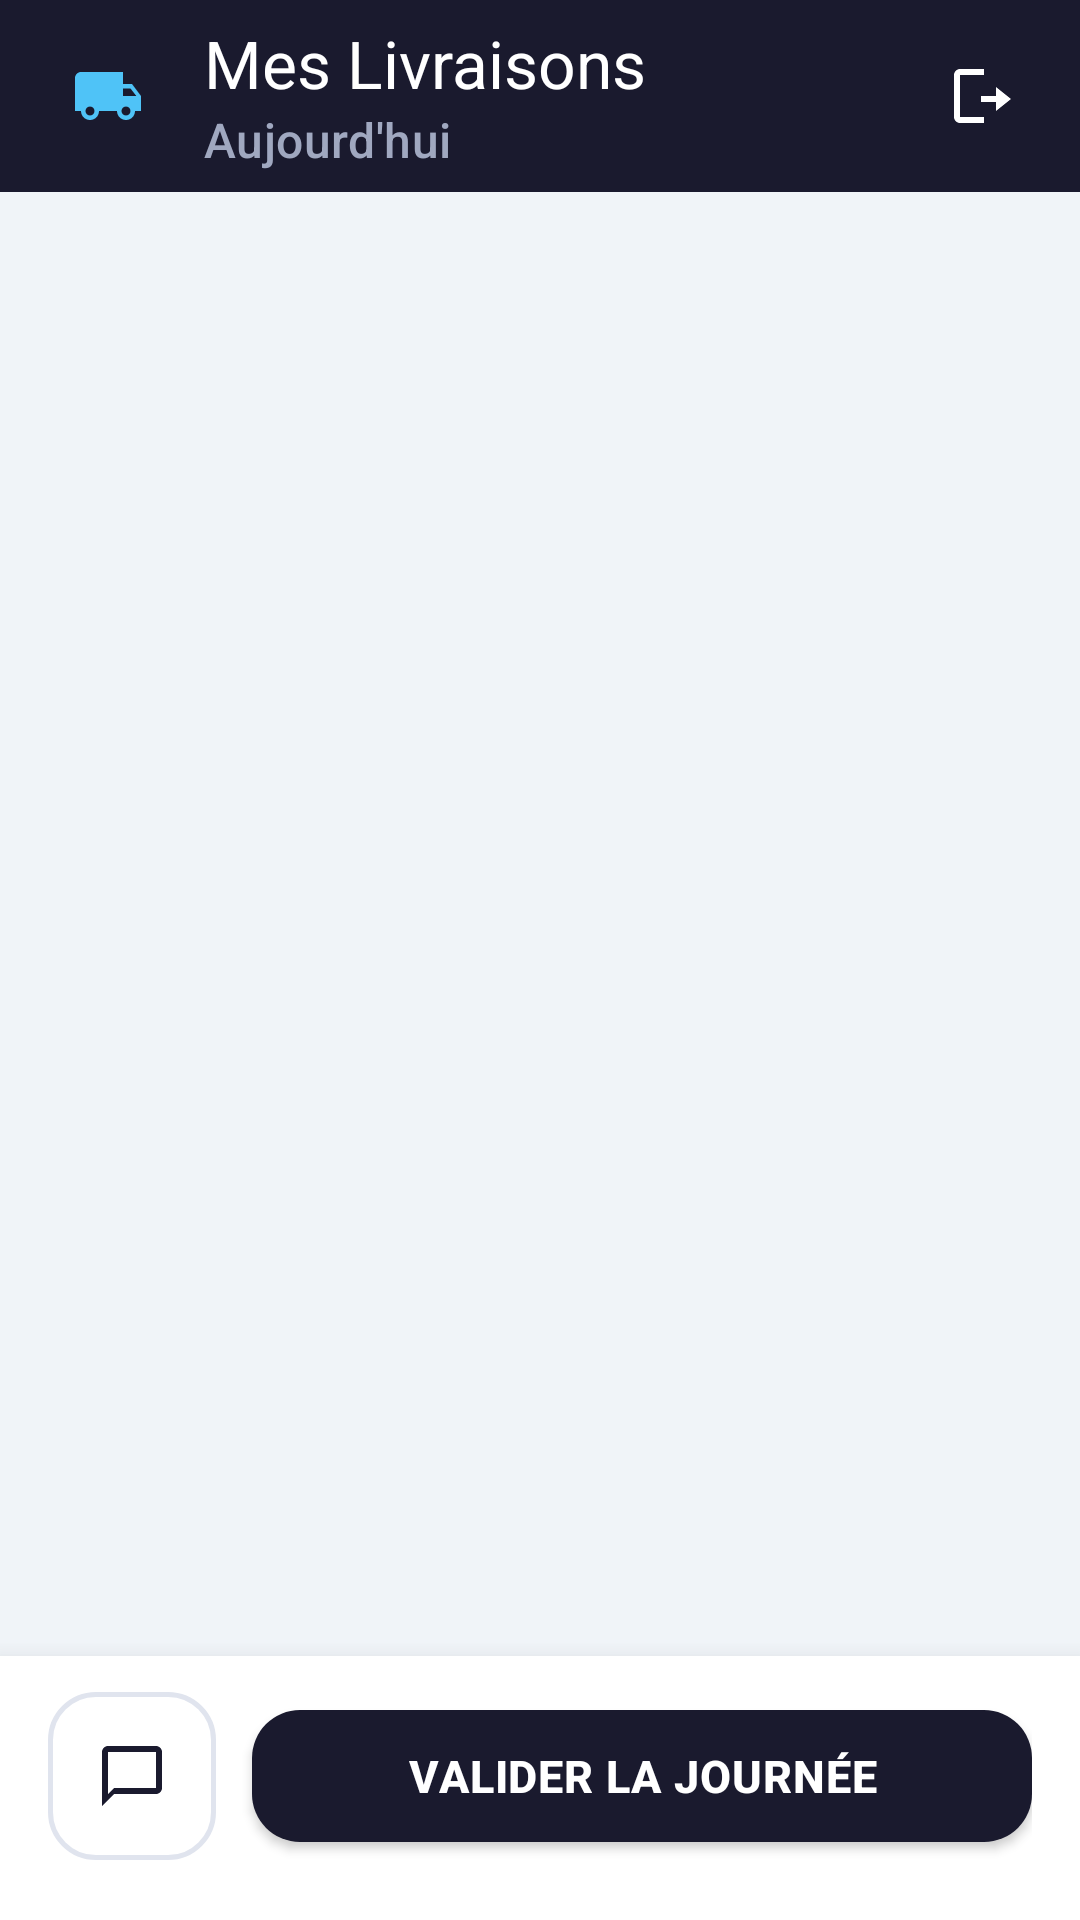

Icon bounding boxes for this 1080px×1920px phone screenshot, format (x1, y1, x2, y2):
chat bubble: (48, 1692, 216, 1860)
